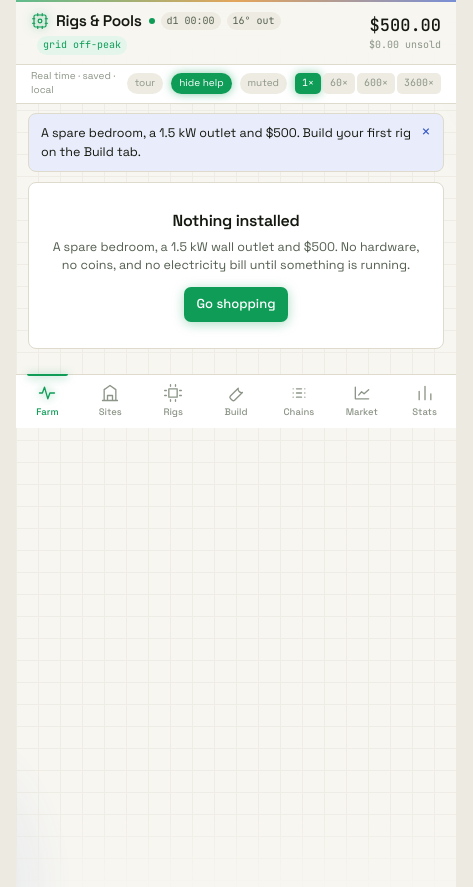
it: App › switching tabs swaps the rendered view
The image size is (473, 887).
Click the button with class "tab" showing "Build" at (236, 401), box [205,375,268,428]
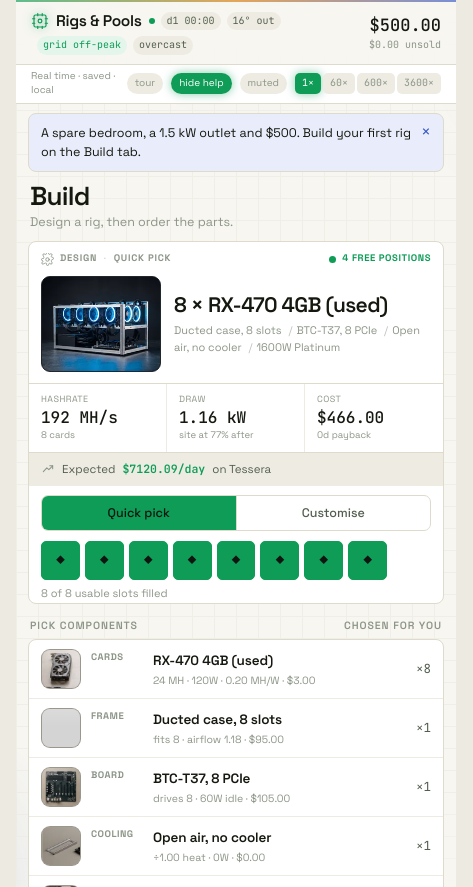
Result: the text "Design a rig, then order the parts." is shown at [30,214,233,230]
